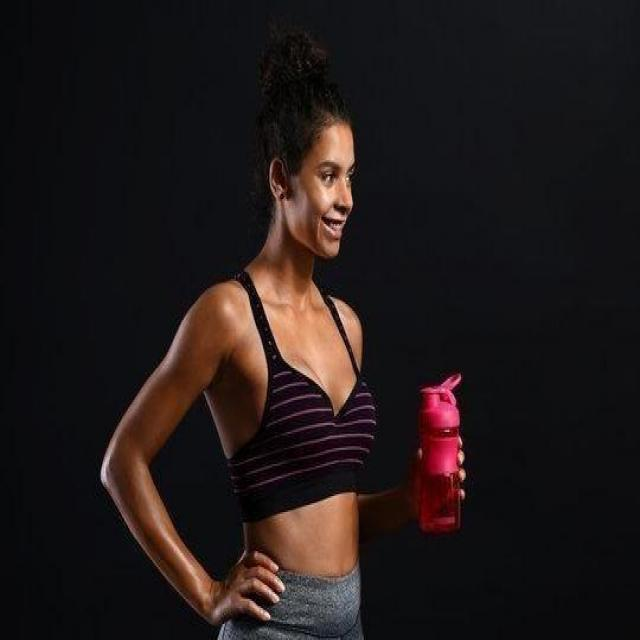gym bottle: (416, 368, 462, 533)
